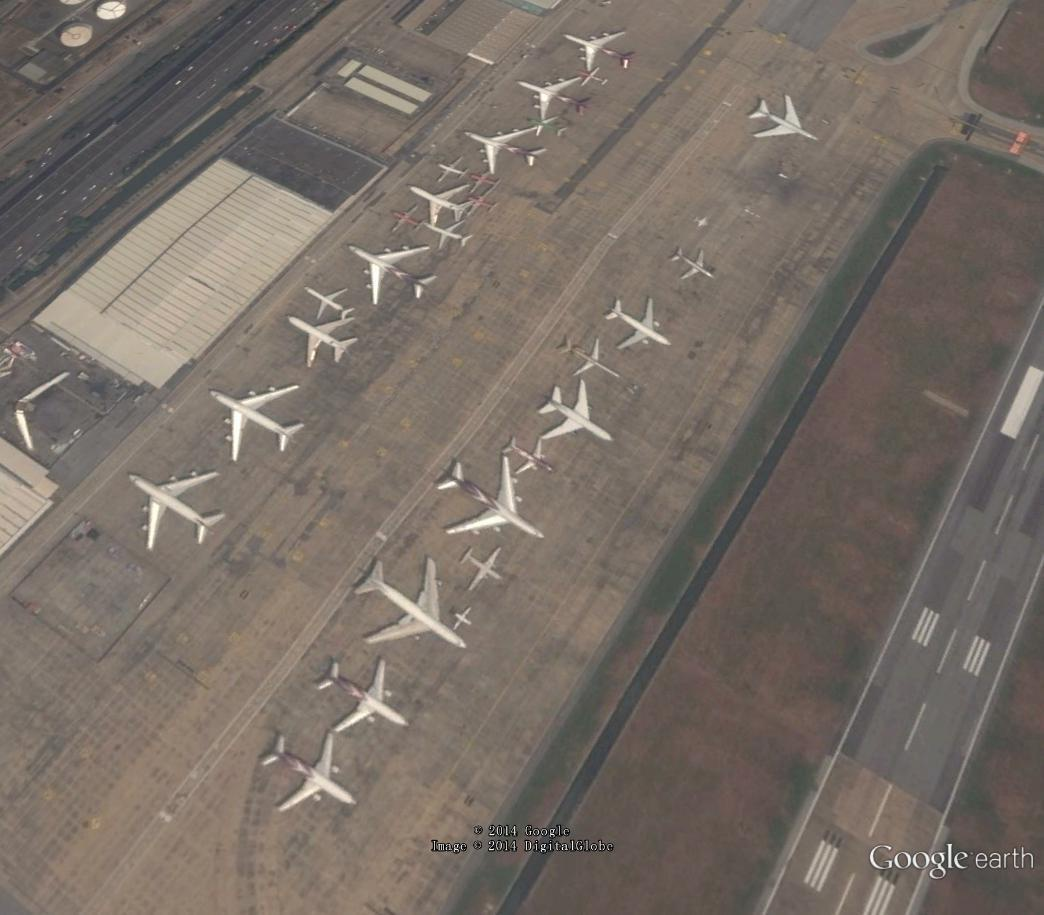aircraft: (351, 553, 474, 652), (429, 451, 552, 549), (126, 468, 234, 559), (255, 727, 363, 816), (207, 378, 310, 469), (312, 655, 415, 738), (4, 370, 93, 459), (345, 237, 444, 310), (534, 375, 619, 450), (457, 120, 555, 180), (282, 310, 363, 370), (750, 90, 825, 151), (558, 25, 643, 78), (601, 294, 676, 354), (513, 75, 600, 126), (403, 180, 481, 234), (555, 334, 625, 385), (498, 430, 562, 480), (453, 541, 510, 594), (300, 282, 363, 325), (663, 244, 718, 285), (423, 217, 477, 252), (523, 111, 574, 144), (385, 202, 430, 238), (432, 154, 475, 187), (465, 186, 502, 220), (574, 63, 612, 94), (468, 166, 504, 198), (447, 601, 480, 633)
